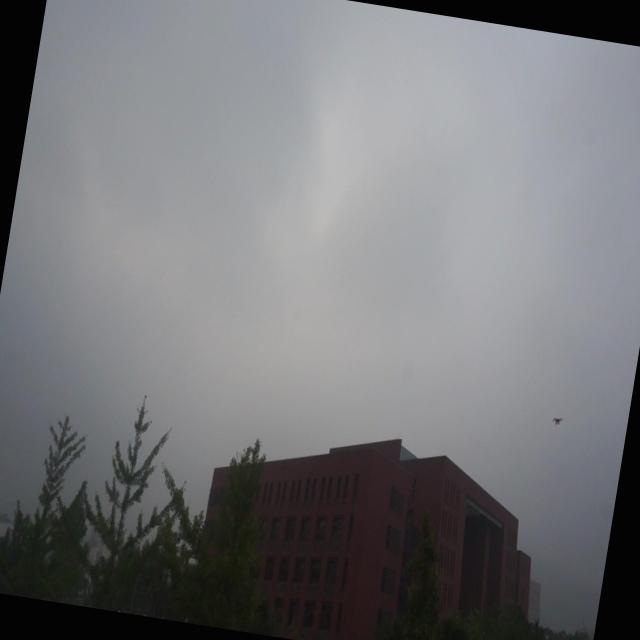drone: (550, 411, 566, 432)
